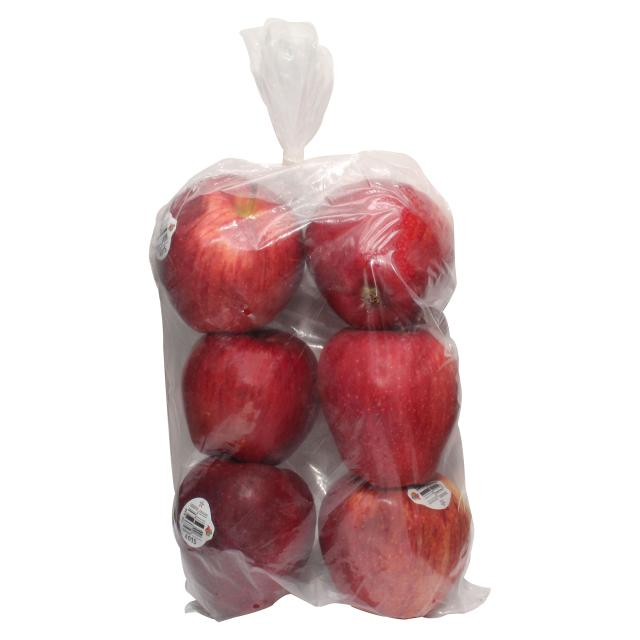manzana: (163, 324, 336, 476)
